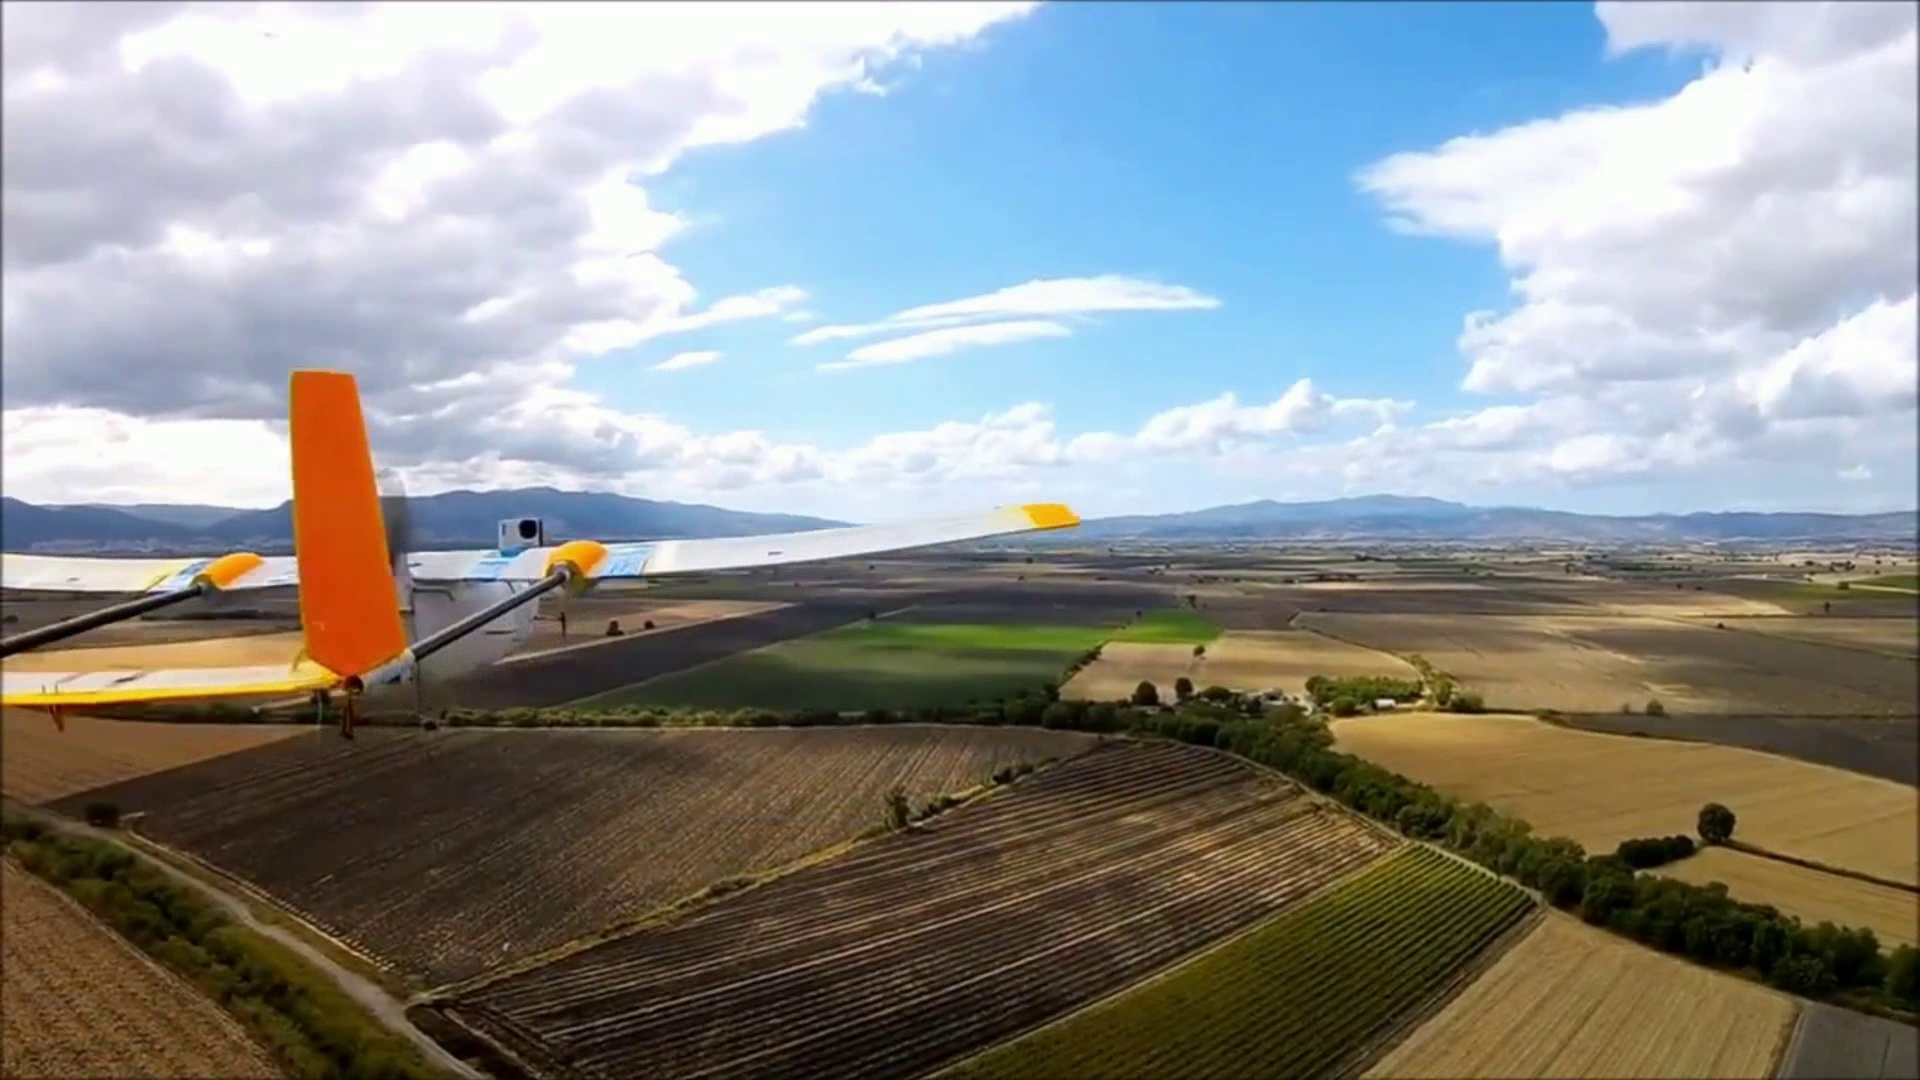airplane: (5, 373, 1081, 724)
